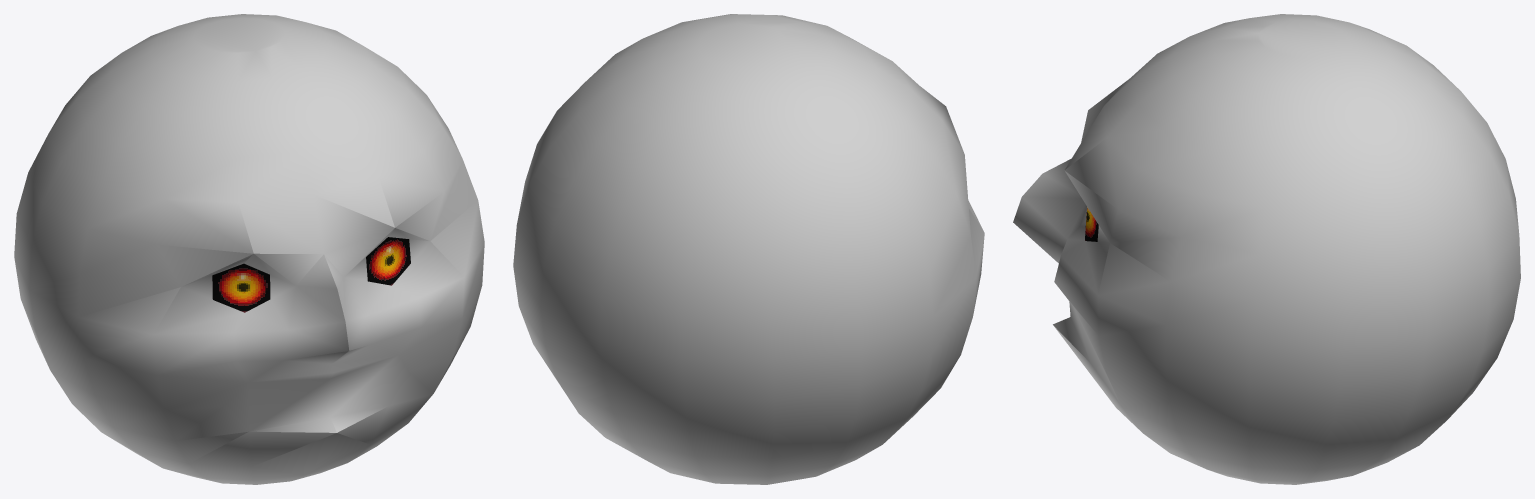
The model's file is moon.obj.
3 renders of one model, left to right at view 1: azimuth 30°, elevation 25°; view 2: azimuth 150°, elevation 25°; view 3: azimuth 270°, elevation 25°, orthographic.
Visible parts, largest first — view 1: mesh00132, mesh00142, mesh00122, mesh0011; view 2: mesh00132, mesh00142; view 3: mesh00132, mesh00142.
Boxes of the visible parts, left/top/right/bottom form: mesh00132: left=14, top=14, right=484, bottom=484; mesh00142: left=153, top=115, right=464, bottom=441; mesh00122: left=224, top=355, right=408, bottom=431; mesh0011: left=212, top=237, right=410, bottom=312; mesh00132: left=513, top=14, right=984, bottom=484; mesh00142: left=893, top=62, right=983, bottom=231; mesh00132: left=1053, top=14, right=1520, bottom=484; mesh00142: left=1013, top=54, right=1164, bottom=404.
Size of the model in its own units: 13.72 by 13.78 by 14.97.
